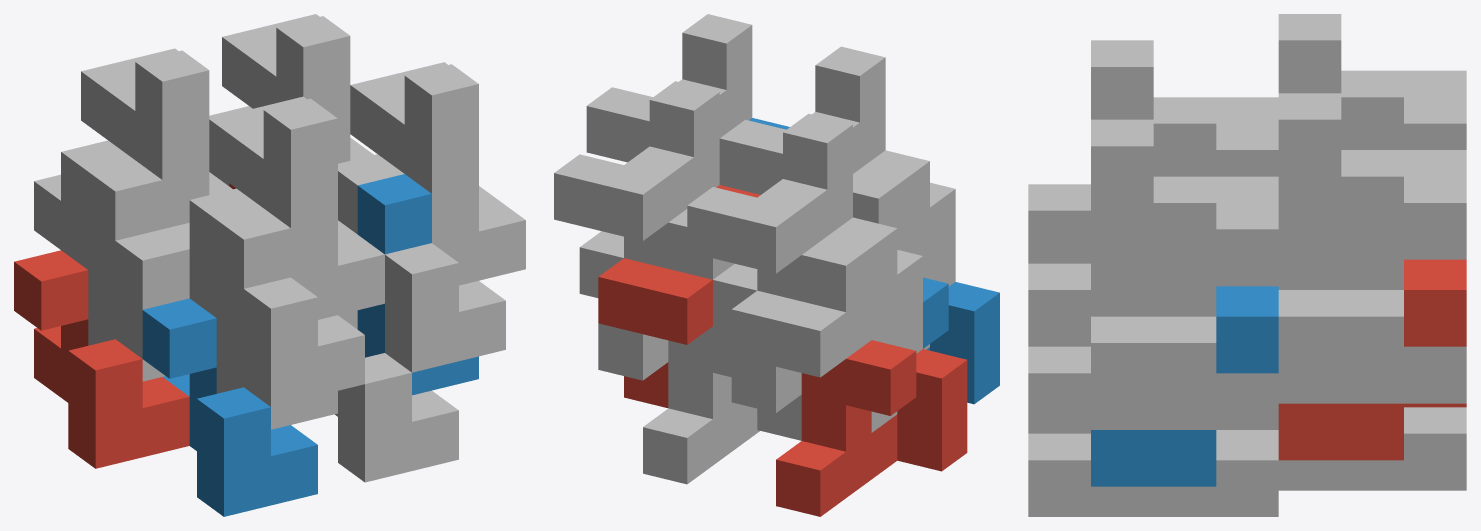
The model's file is tiling.obj.
The picture shows the model from 3 angles, left to right: view 1: azimuth 30°, elevation 25°; view 2: azimuth 150°, elevation 25°; view 3: azimuth 270°, elevation 25°; orthographic projection. The views are drawn at different scales.
Visible parts, largest first — view 1: copy_2_domain_4, copy_2_domain_8, copy_1_domain_1, copy_1_domain_2, copy_2_domain_3, copy_1_domain_4, copy_1_domain_8, copy_2_domain_1, copy_2_domain_2, copy_1_domain_6, copy_2_domain_7, copy_1_domain_3 (+1 smaller); view 2: copy_1_domain_1, copy_2_domain_3, copy_2_domain_7, copy_2_domain_1, copy_1_domain_3, copy_1_domain_5, copy_2_domain_4, copy_2_domain_8, copy_2_domain_5, copy_1_domain_2, copy_1_domain_7, copy_1_domain_4 (+1 smaller); view 3: copy_2_domain_7, copy_2_domain_8, copy_1_domain_8, copy_2_domain_3, copy_2_domain_4, copy_1_domain_6, copy_2_domain_5, copy_2_domain_6, copy_1_domain_7, copy_1_domain_5, copy_1_domain_4.
Boxes of the visible parts, x1=… form: copy_2_domain_4: x1=209, y1=96, x2=384, y2=319; copy_2_domain_8: x1=350, y1=62, x2=525, y2=285; copy_1_domain_1: x1=14, y1=250, x2=189, y2=468; copy_1_domain_2: x1=142, y1=298, x2=317, y2=516; copy_2_domain_3: x1=81, y1=48, x2=232, y2=229; copy_1_domain_4: x1=189, y1=188, x2=364, y2=406; copy_1_domain_8: x1=338, y1=154, x2=505, y2=372; copy_2_domain_1: x1=34, y1=160, x2=165, y2=381; copy_2_domain_2: x1=163, y1=208, x2=337, y2=429; copy_1_domain_6: x1=335, y1=310, x2=458, y2=482; copy_2_domain_7: x1=222, y1=14, x2=373, y2=163; copy_1_domain_3: x1=61, y1=140, x2=189, y2=358; copy_1_domain_1: x1=776, y1=340, x2=967, y2=516; copy_2_domain_3: x1=687, y1=113, x2=852, y2=330; copy_2_domain_7: x1=554, y1=81, x2=719, y2=297; copy_2_domain_1: x1=731, y1=217, x2=897, y2=440; copy_1_domain_3: x1=731, y1=236, x2=922, y2=412; copy_1_domain_5: x1=643, y1=326, x2=759, y2=484; copy_2_domain_4: x1=719, y1=46, x2=885, y2=194; copy_2_domain_8: x1=586, y1=14, x2=752, y2=162; copy_2_domain_5: x1=598, y1=185, x2=760, y2=407; copy_1_domain_2: x1=923, y1=277, x2=999, y2=404; copy_1_domain_7: x1=598, y1=209, x2=734, y2=380; copy_1_domain_4: x1=853, y1=169, x2=955, y2=286; copy_2_domain_7: x1=1278, y1=93, x2=1466, y2=373; copy_2_domain_8: x1=1091, y1=119, x2=1278, y2=399; copy_1_domain_8: x1=1028, y1=259, x2=1278, y2=429; copy_2_domain_3: x1=1278, y1=14, x2=1466, y2=149; copy_2_domain_4: x1=1091, y1=40, x2=1278, y2=176; copy_1_domain_6: x1=1028, y1=430, x2=1278, y2=516; copy_2_domain_5: x1=1278, y1=259, x2=1466, y2=460; copy_2_domain_6: x1=1091, y1=286, x2=1278, y2=486; copy_1_domain_7: x1=1278, y1=233, x2=1466, y2=403; copy_1_domain_5: x1=1216, y1=407, x2=1466, y2=490; copy_1_domain_4: x1=1028, y1=184, x2=1090, y2=263.
Bounding box in the file's own units: 8 × 7 × 7.
